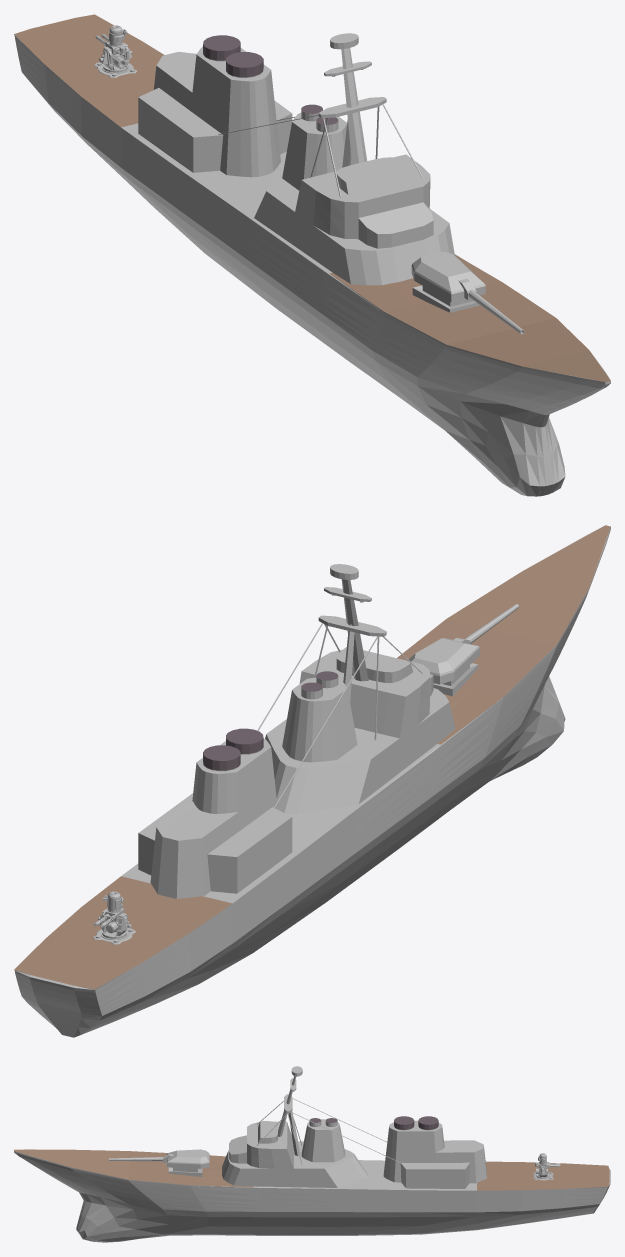
File: middle_classic1.fbx
3 views of the same model, one above another, from view 1: azimuth 30°, elevation 25°; view 2: azimuth 150°, elevation 25°; view 3: azimuth 270°, elevation 25° (orthographic). The views are drawn at different scales.
Visible parts, largest first — view 1: middle_classic1; view 2: middle_classic1; view 3: middle_classic1.
Boxes of the visible parts, x1,y1,x2,y2 form: middle_classic1: (14, 14, 610, 496); middle_classic1: (14, 525, 610, 1037); middle_classic1: (14, 1066, 610, 1242).
Bounding box in the file's own units: 586 × 1496 × 4741.
